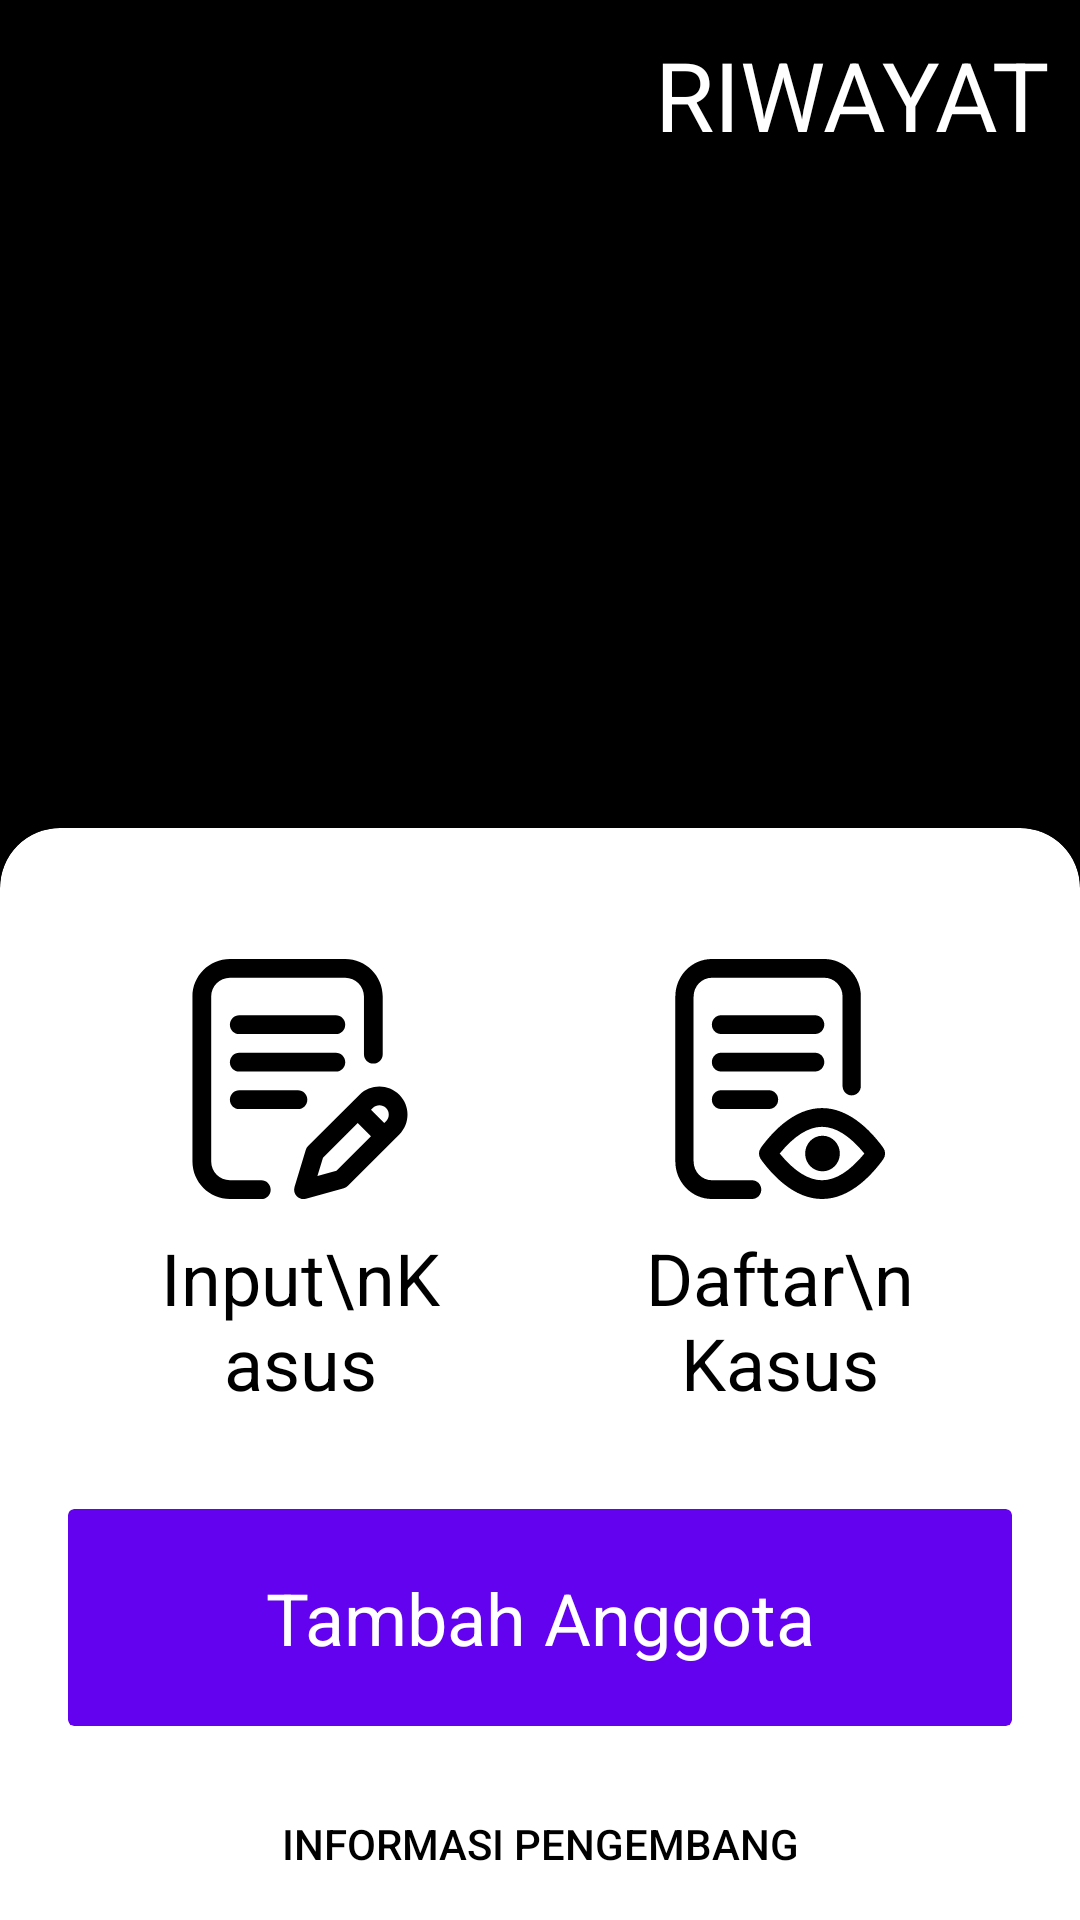

Where to tap for icons on this 1080*1920 app screen, as [x,y]:
file: [780,1079]
writing: [300,1079]
